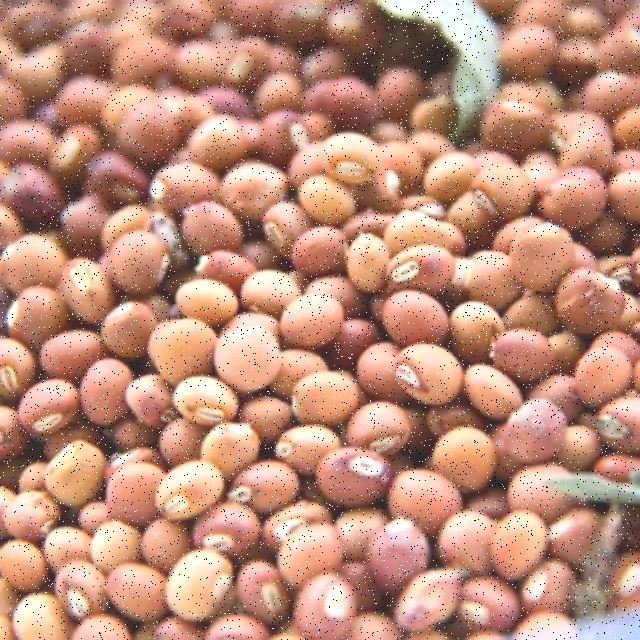NA: (96, 117, 597, 533)
